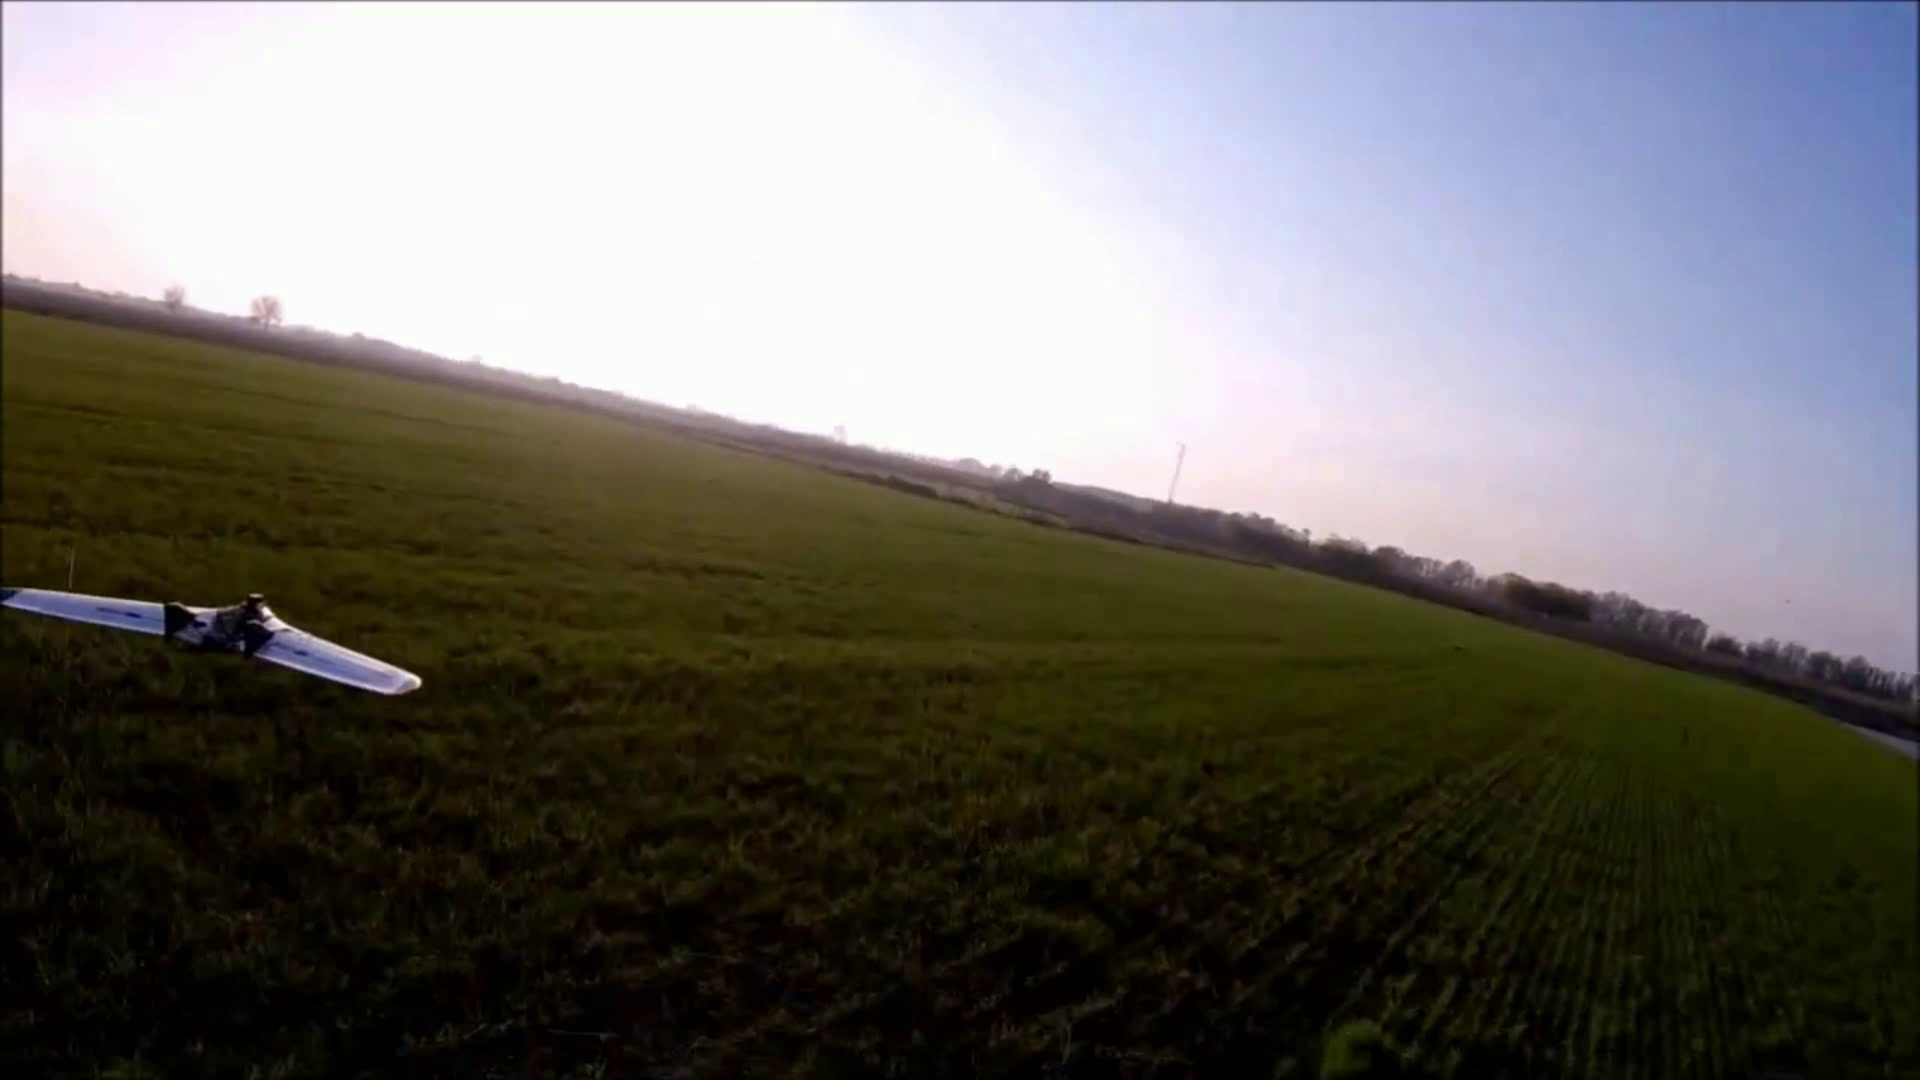airplane: (0, 587, 424, 698)
